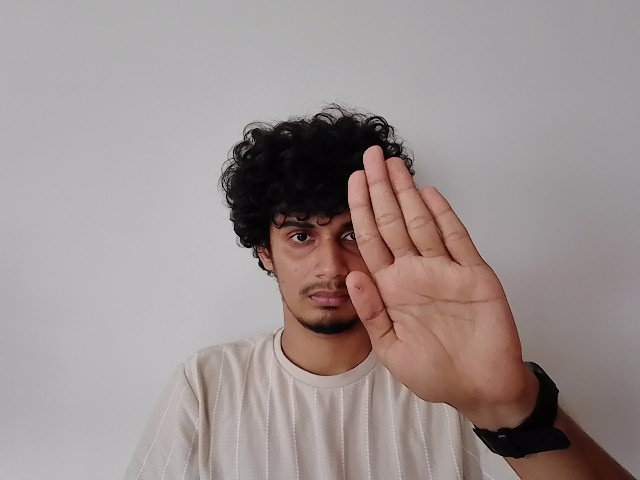hello: (345, 144, 530, 402)
